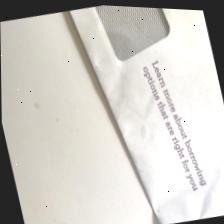paper: (63, 3, 224, 224)
